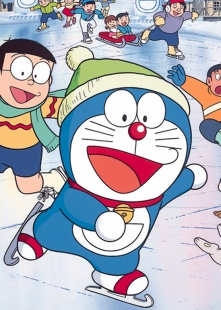Doraemon: (41, 49, 207, 292)
